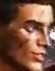kevin: (2, 1, 48, 70)
